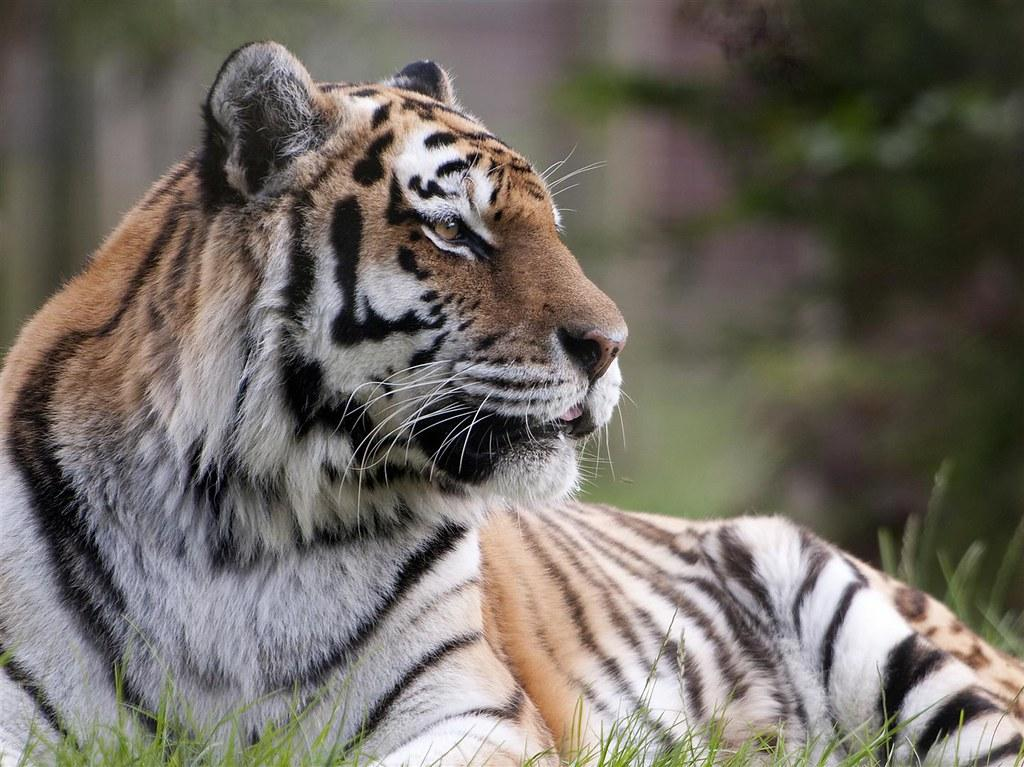tiger: (2, 39, 1022, 766)
